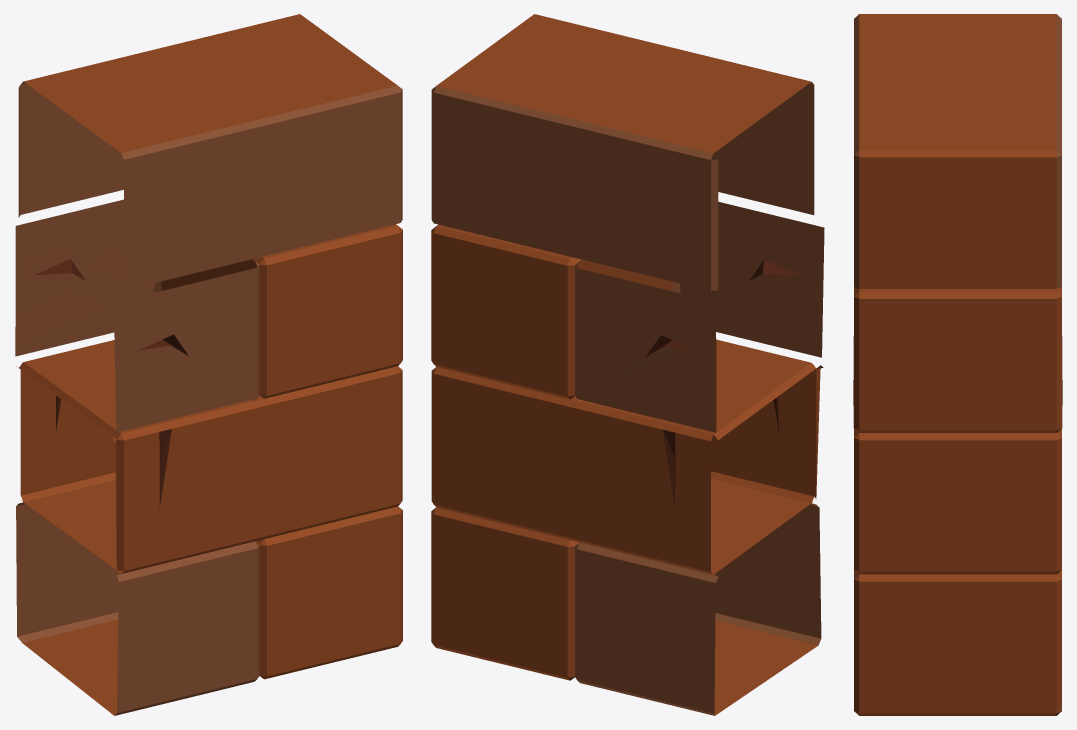
The model's file is side.fbx.
3 renders of one model, left to right at view 1: azimuth 30°, elevation 25°; view 2: azimuth 150°, elevation 25°; view 3: azimuth 270°, elevation 25°, orthographic.
Parts seen in each view (by area): view 1: Wall Asset Edge; view 2: Wall Asset Edge; view 3: Wall Asset Edge.
Boxes of the visible parts, x1,y1,x2,y2 form: Wall Asset Edge: (15, 14, 402, 715); Wall Asset Edge: (431, 14, 824, 715); Wall Asset Edge: (853, 14, 1062, 715).
Size of the model in its own units: 163 by 300 by 101.
